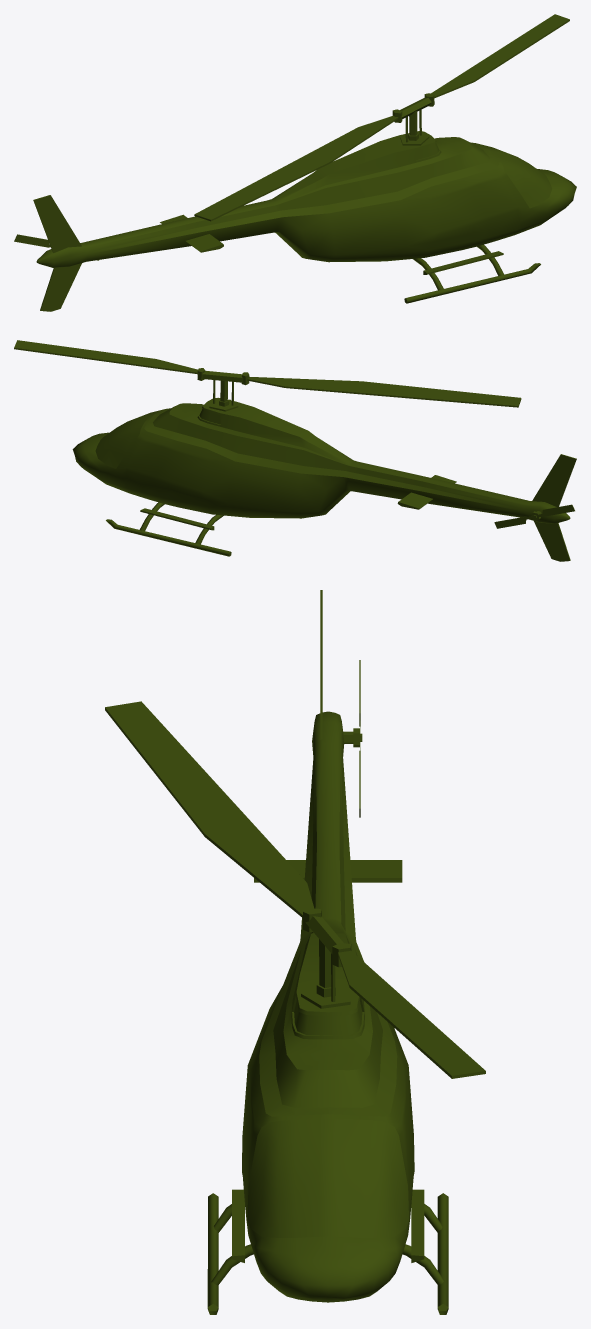
File: Vehicle13_M.fbx
3 views of the same model, one above another, from view 1: azimuth 30°, elevation 25°; view 2: azimuth 150°, elevation 25°; view 3: azimuth 270°, elevation 25° (orthographic). The views are drawn at different scales.
Visible parts, largest first — view 1: Vehicle13; view 2: Vehicle13; view 3: Vehicle13.
Boxes of the visible parts, x1,y1,x2,y2 form: Vehicle13: [14, 14, 576, 311]; Vehicle13: [14, 340, 576, 561]; Vehicle13: [105, 590, 485, 1314].
Size of the model in its own units: 8.88 by 2.64 by 2.74.
